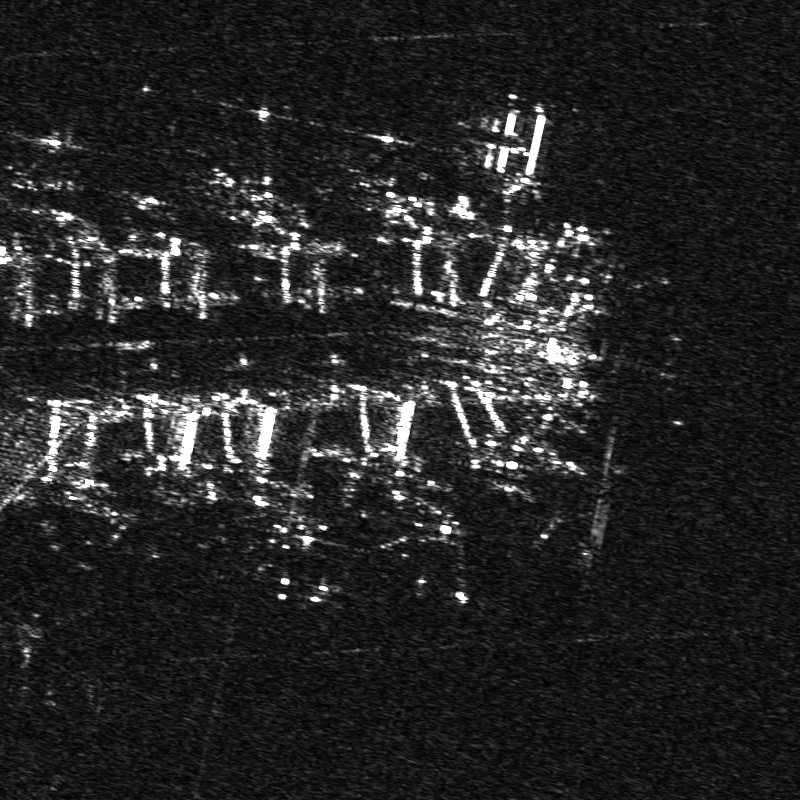A220: (1, 117, 96, 205)
A320/321: (183, 91, 296, 206), (246, 516, 352, 613), (327, 117, 431, 205), (520, 492, 609, 575)
Boeing737: (375, 507, 490, 602)
